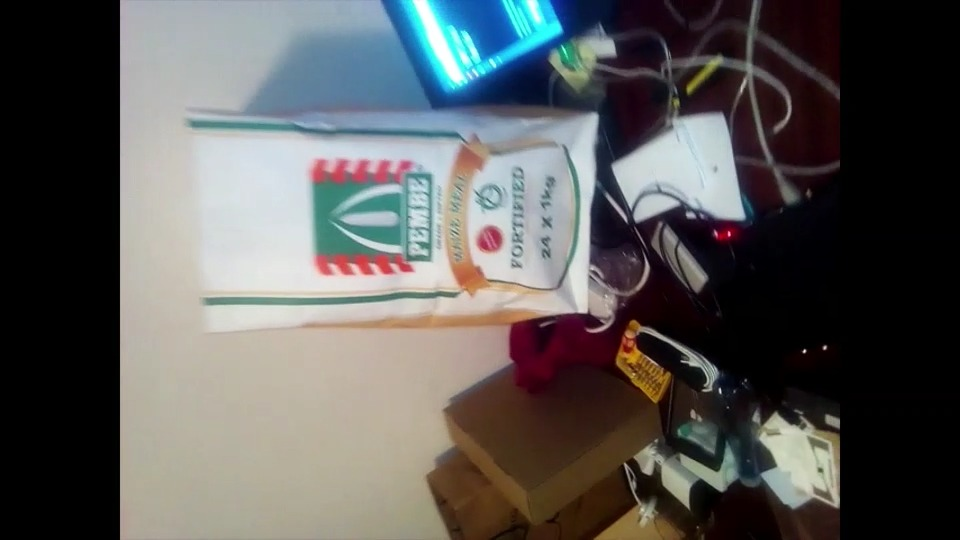maize_flour_green_label: (175, 105, 595, 328)
